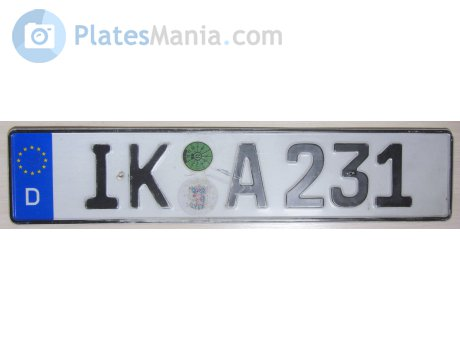License Plates: (52, 136, 441, 211)
